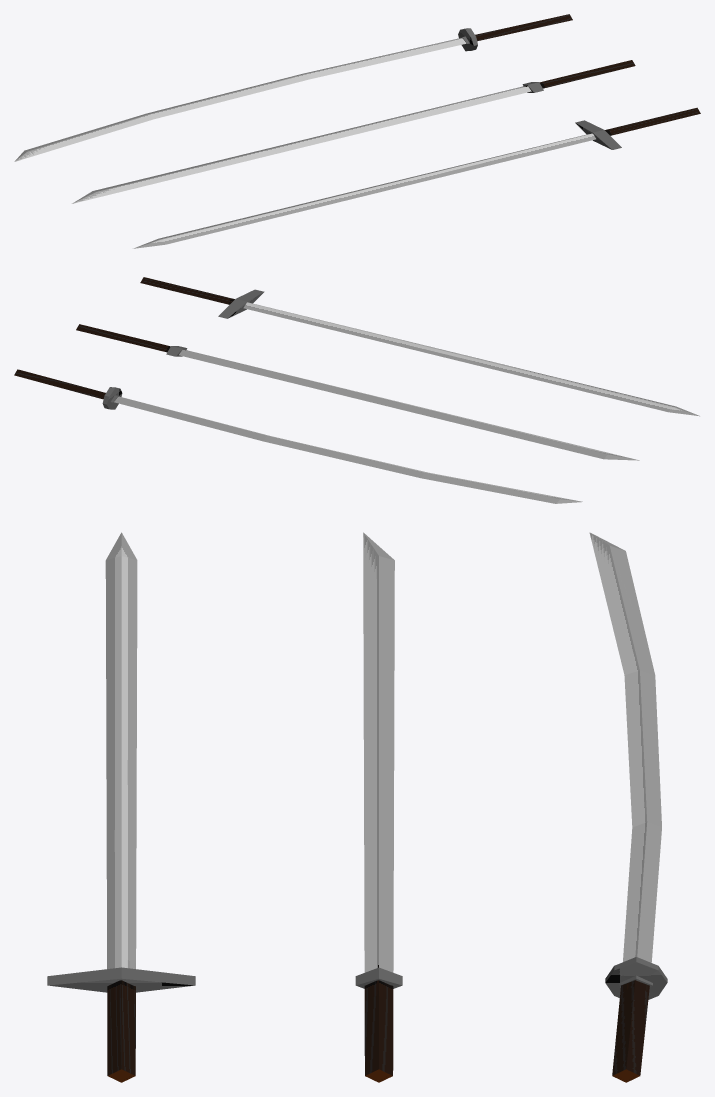
File: 3D_Swords_Collection_Low_Poly_PSP_inspired.glb
3 renders of one model, top to bottom at view 1: azimuth 30°, elevation 25°; view 2: azimuth 150°, elevation 25°; view 3: azimuth 270°, elevation 25°, orthographic. The views are drawn at different scales.
Parts seen in each view (by area): view 1: SwordBlade_02.002_M_SwordBlade_0, SwordBlade_00_M_SwordBlade_0, SwordBlade_01.001_M_SwordBlade_0, RainGuard_00_M_RainGuard_0; view 2: SwordBlade_02.002_M_SwordBlade_0, SwordBlade_01.001_M_SwordBlade_0, SwordBlade_00_M_SwordBlade_0, RainGuard_00_M_RainGuard_0; view 3: SwordBlade_01.001_M_SwordBlade_0, SwordBlade_00_M_SwordBlade_0, SwordBlade_02.002_M_SwordBlade_0, RainGuard_00_M_RainGuard_0, RainGuard_03.002_M_RainGuard_0.
Part boxes in pixels (box(x1,y1,x2,y2)): SwordBlade_02.002_M_SwordBlade_0: box(14, 14, 572, 161); SwordBlade_00_M_SwordBlade_0: box(133, 107, 700, 248); SwordBlade_01.001_M_SwordBlade_0: box(72, 60, 635, 203); RainGuard_00_M_RainGuard_0: box(575, 120, 621, 149); SwordBlade_02.002_M_SwordBlade_0: box(14, 369, 582, 503); SwordBlade_01.001_M_SwordBlade_0: box(76, 324, 639, 460); SwordBlade_00_M_SwordBlade_0: box(140, 277, 699, 416); RainGuard_00_M_RainGuard_0: box(218, 289, 264, 318); SwordBlade_01.001_M_SwordBlade_0: box(363, 532, 394, 1082); SwordBlade_00_M_SwordBlade_0: box(105, 532, 137, 1082); SwordBlade_02.002_M_SwordBlade_0: box(589, 532, 661, 1082); RainGuard_00_M_RainGuard_0: box(47, 967, 195, 992); RainGuard_03.002_M_RainGuard_0: box(605, 957, 667, 999).
Bounding box in the file's own units: 1 × 0.0368 × 0.4818.
2 materials, 2 textured.
